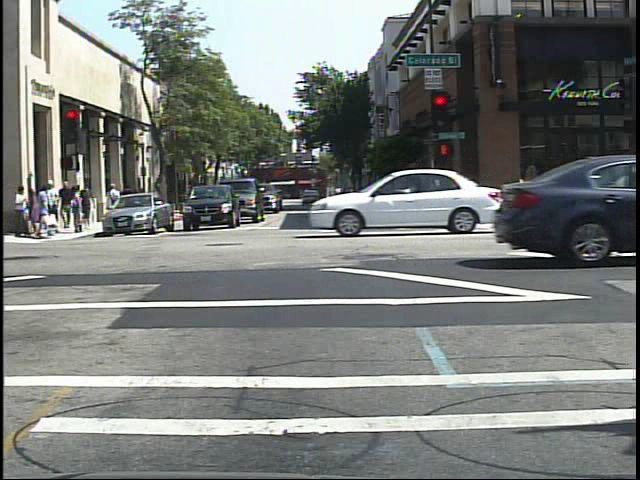person: (104, 179, 125, 224)
